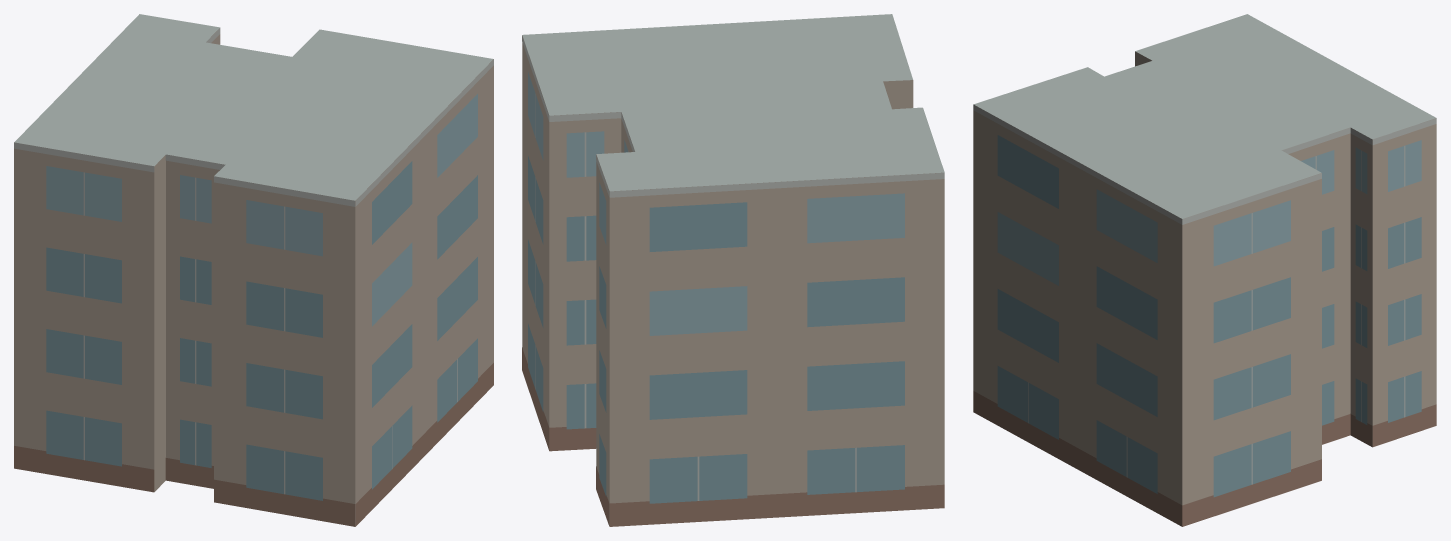
Rendered from survey-upis-32738572.glb.
3 renders of one model, left to right at view 1: azimuth 30°, elevation 25°; view 2: azimuth 150°, elevation 25°; view 3: azimuth 270°, elevation 25°, orthographic. The views are drawn at different scales.
Visible parts, largest first — view 1: survey-upis-32738572.tmp; view 2: survey-upis-32738572.tmp; view 3: survey-upis-32738572.tmp.
Part boxes in pixels (box(x1,y1,x2,y2)): survey-upis-32738572.tmp: box(14, 14, 493, 526); survey-upis-32738572.tmp: box(522, 14, 944, 526); survey-upis-32738572.tmp: box(973, 14, 1436, 526).
Size of the model in its own units: 18.3 by 12.8 by 17.46.
